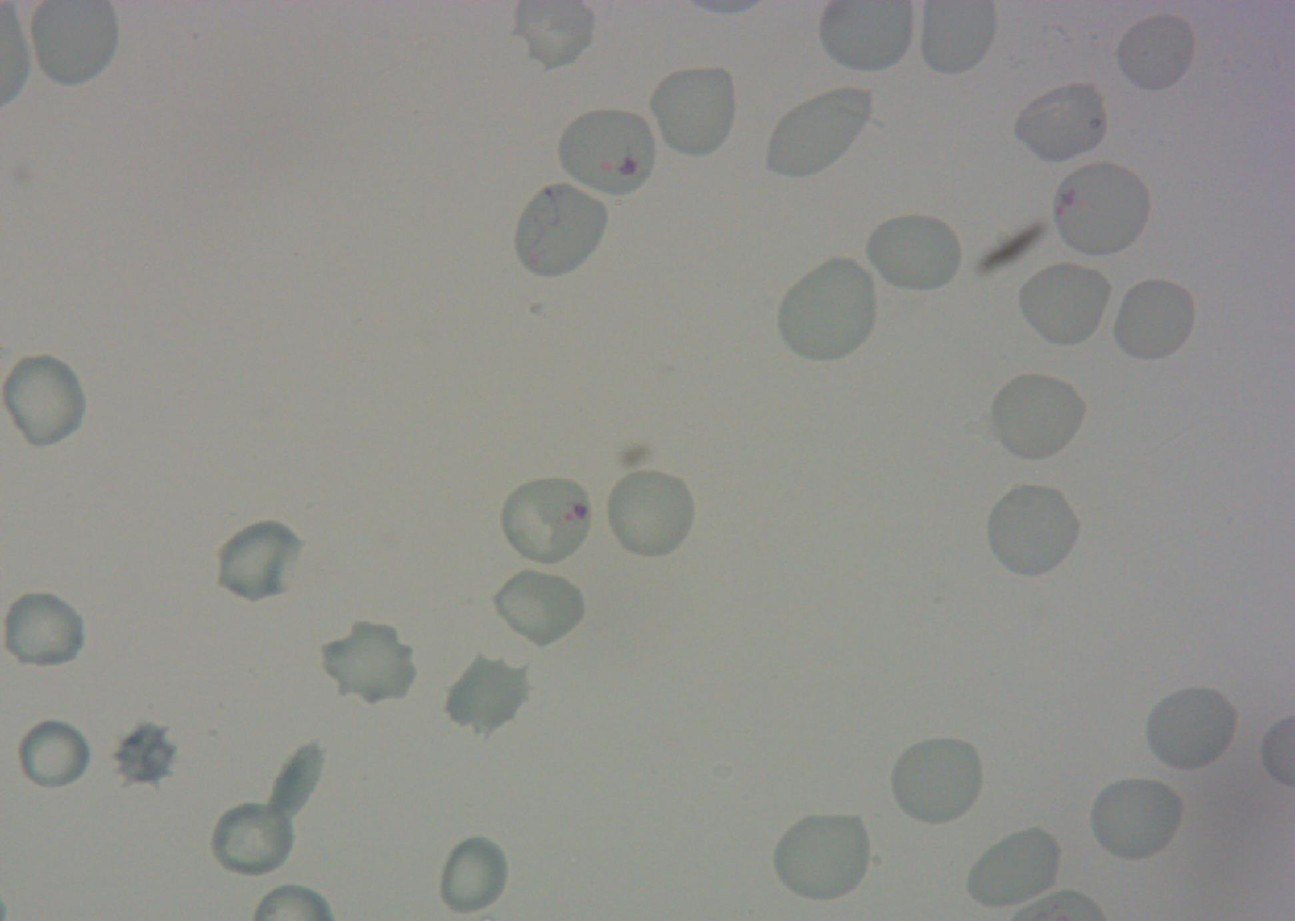Infected: (510, 182, 609, 277), (556, 109, 658, 198), (1051, 160, 1150, 251), (501, 473, 592, 563)
Uninfected: (780, 255, 882, 360), (762, 87, 873, 179), (770, 808, 874, 903), (983, 483, 1082, 579), (1088, 770, 1193, 858), (647, 62, 741, 160), (602, 465, 698, 560), (1015, 258, 1115, 349), (965, 823, 1065, 912), (1142, 683, 1238, 774), (0, 354, 88, 452), (1009, 79, 1108, 166), (863, 211, 964, 295), (320, 621, 417, 707), (1106, 274, 1198, 364), (213, 517, 306, 604), (489, 567, 588, 648), (995, 369, 1084, 456), (895, 735, 983, 822), (207, 797, 298, 880), (1113, 7, 1199, 93), (0, 589, 88, 673), (442, 653, 531, 734), (428, 832, 510, 916), (10, 715, 93, 796), (105, 721, 184, 794), (269, 741, 323, 822)
